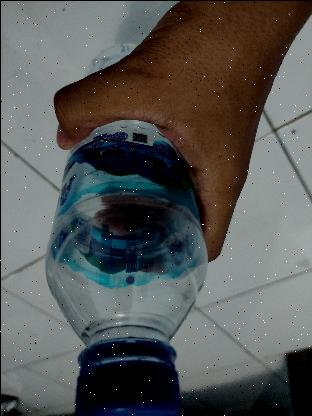Plastic Bottle: (38, 41, 214, 416)
